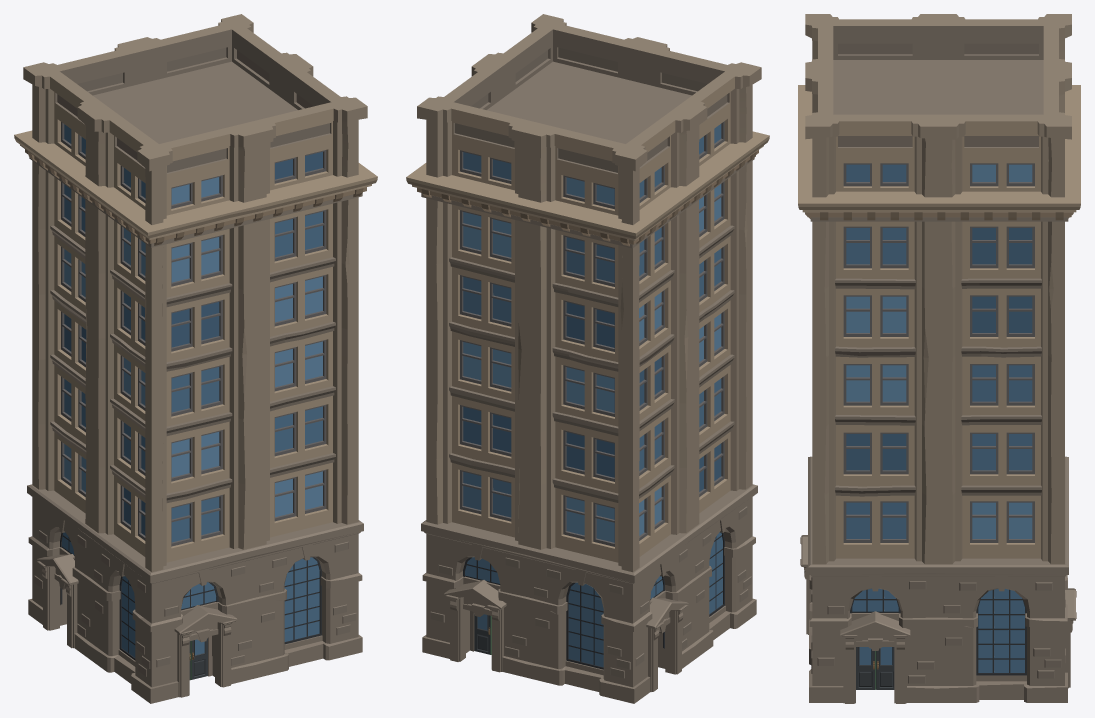
File: sc-office.glb
3 renders of one model, left to right at view 1: azimuth 30°, elevation 25°; view 2: azimuth 150°, elevation 25°; view 3: azimuth 270°, elevation 25°, orthographic. The views are drawn at different scales.
Visible parts, largest first — view 1: SM_Bld_OfficeOld_Small_01; view 2: SM_Bld_OfficeOld_Small_01; view 3: SM_Bld_OfficeOld_Small_01.
Part boxes in pixels (<box>): SM_Bld_OfficeOld_Small_01: <box>14,14,377,703</box>; SM_Bld_OfficeOld_Small_01: <box>406,14,769,703</box>; SM_Bld_OfficeOld_Small_01: <box>798,14,1080,703</box>.
Bounding box in the file's own units: 16.74 × 38 × 16.86.
Materials: 1 (1 with a texture image).
